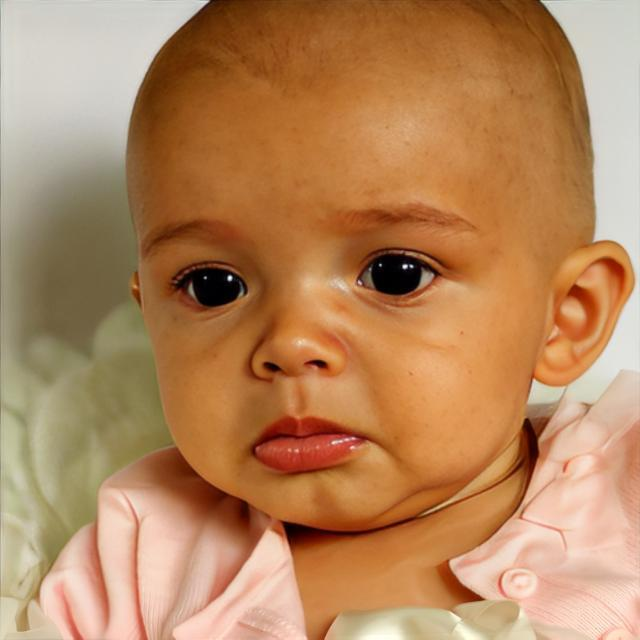sad: (126, 0, 534, 533)
